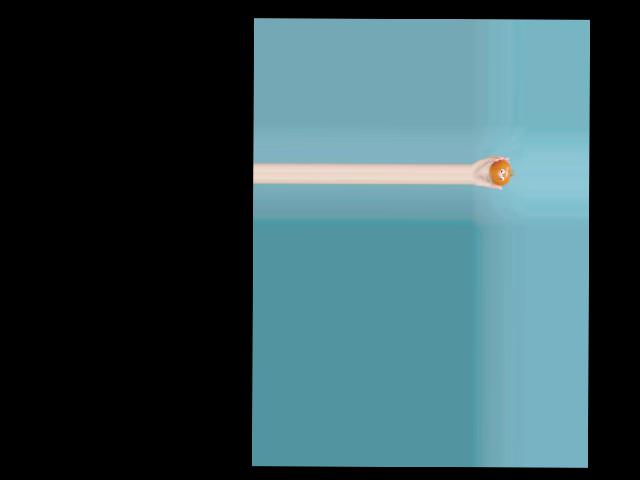tomato: (488, 159, 511, 186)
